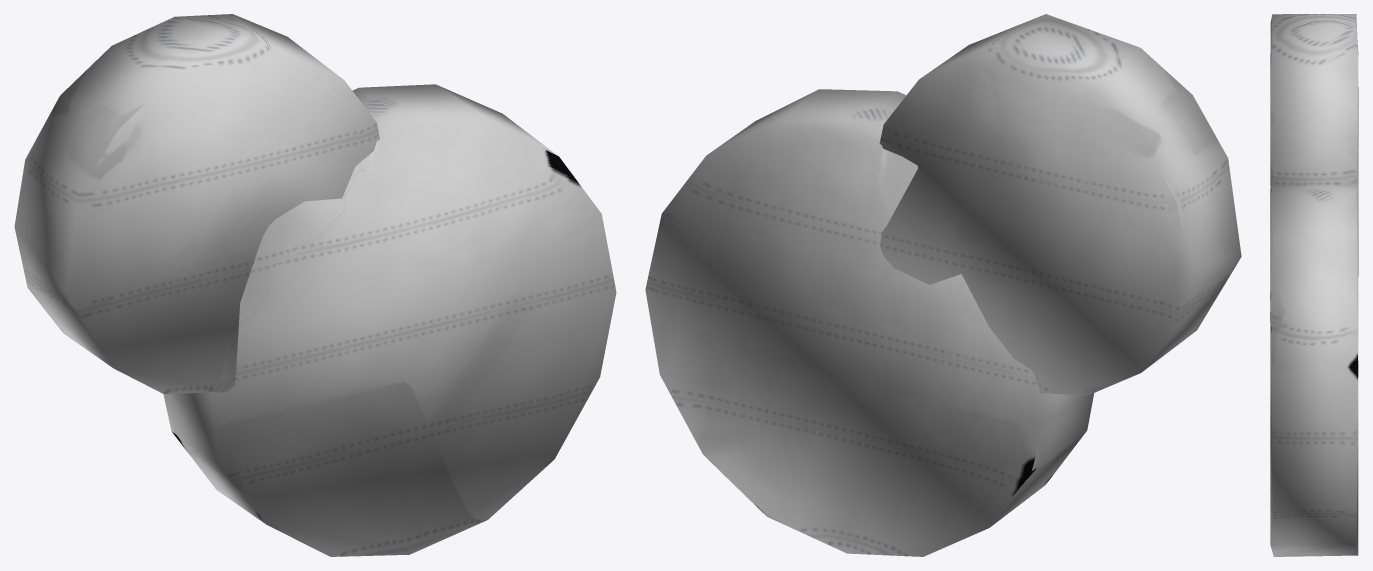
The model's file is Guitarra_UpperTorso_C1.fbx.
3 renders of one model, left to right at view 1: azimuth 30°, elevation 25°; view 2: azimuth 150°, elevation 25°; view 3: azimuth 270°, elevation 25°, orthographic. The views are drawn at different scales.
Parts seen in each view (by area): view 1: Civ_Guitarra_UpperTorso_C1; view 2: Civ_Guitarra_UpperTorso_C1; view 3: Civ_Guitarra_UpperTorso_C1.
Part boxes in pixels (left/top/right/bottom): Civ_Guitarra_UpperTorso_C1: left=14, top=14, right=616, bottom=556; Civ_Guitarra_UpperTorso_C1: left=645, top=14, right=1241, bottom=556; Civ_Guitarra_UpperTorso_C1: left=1270, top=14, right=1358, bottom=556.
Size of the model in its own units: 1.8 by 1.71 by 0.3116.
